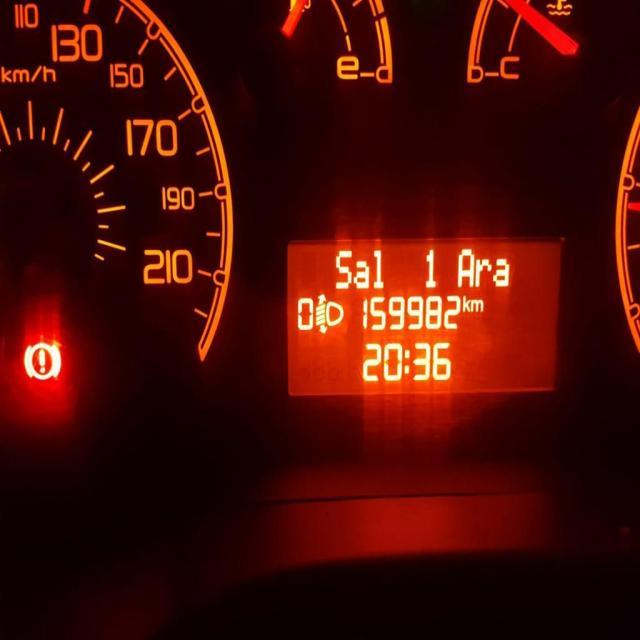odometer: (280, 234, 566, 398)
